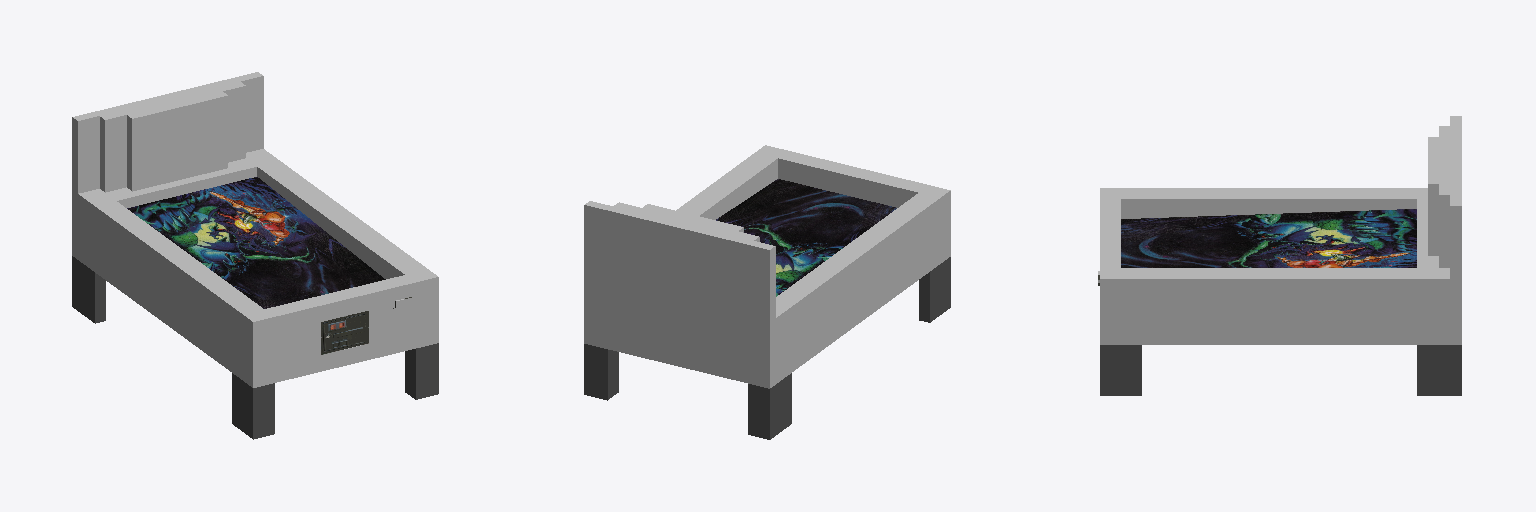
The picture shows the model from 3 angles: view 1: azimuth 30°, elevation 25°; view 2: azimuth 150°, elevation 25°; view 3: azimuth 270°, elevation 25°; orthographic projection.
Visible parts, largest first — view 1: Cube; view 2: Cube; view 3: Cube.
Boxes of the visible parts, x1,y1,x2,y2 form: Cube: [72, 72, 438, 439]; Cube: [584, 145, 950, 439]; Cube: [1098, 116, 1461, 395].
Bounding box in the file's own units: 46.72 × 45.73 × 79.26.
8 materials, 2 textured.